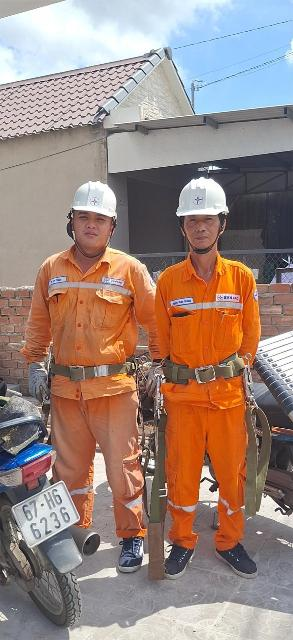harness: (54, 359, 137, 382), (166, 366, 251, 382), (28, 350, 52, 406), (144, 354, 167, 399)
helmet: (68, 181, 127, 235), (175, 177, 237, 224)
shoes: (215, 524, 266, 587), (157, 523, 205, 582), (115, 526, 149, 581)
